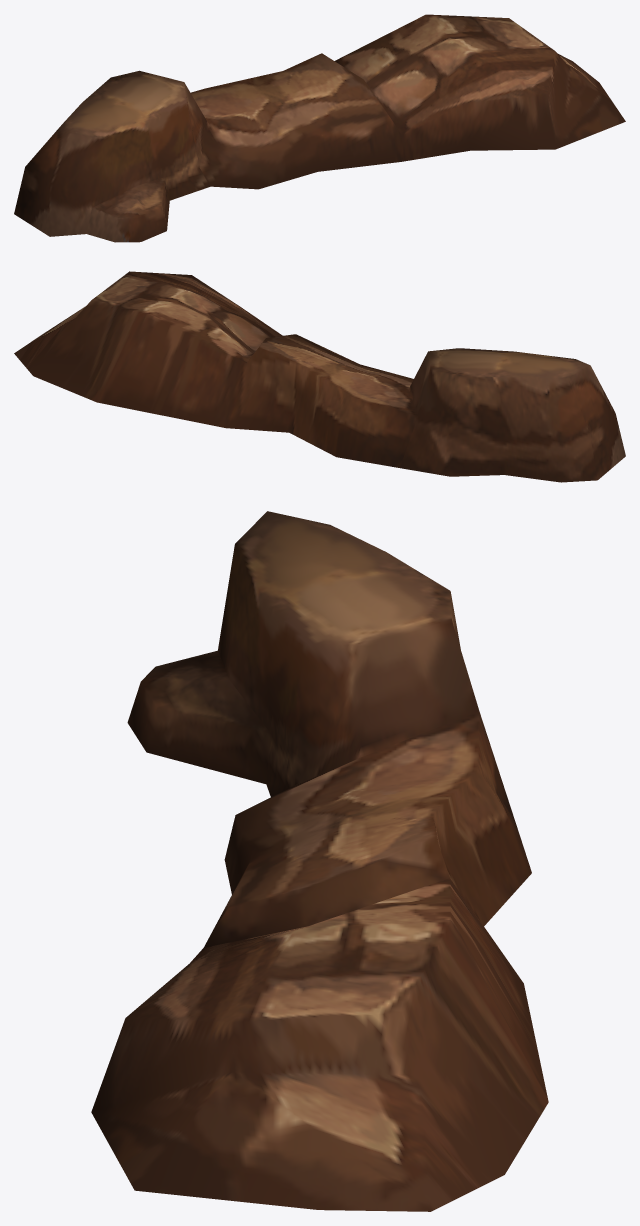
File: ShiTou04.FBX
The picture shows the model from 3 angles, top to bottom: view 1: azimuth 30°, elevation 25°; view 2: azimuth 150°, elevation 25°; view 3: azimuth 270°, elevation 25°; orthographic projection. The views are drawn at different scales.
Visible parts, largest first — view 1: 对象051; view 2: 对象051; view 3: 对象051.
Part boxes in pixels (<box>): 对象051: <box>14,14,625,242</box>; 对象051: <box>14,271,625,482</box>; 对象051: <box>91,511,548,1211</box>.
Bounding box in the file's own units: 381 × 58.2 × 133.
